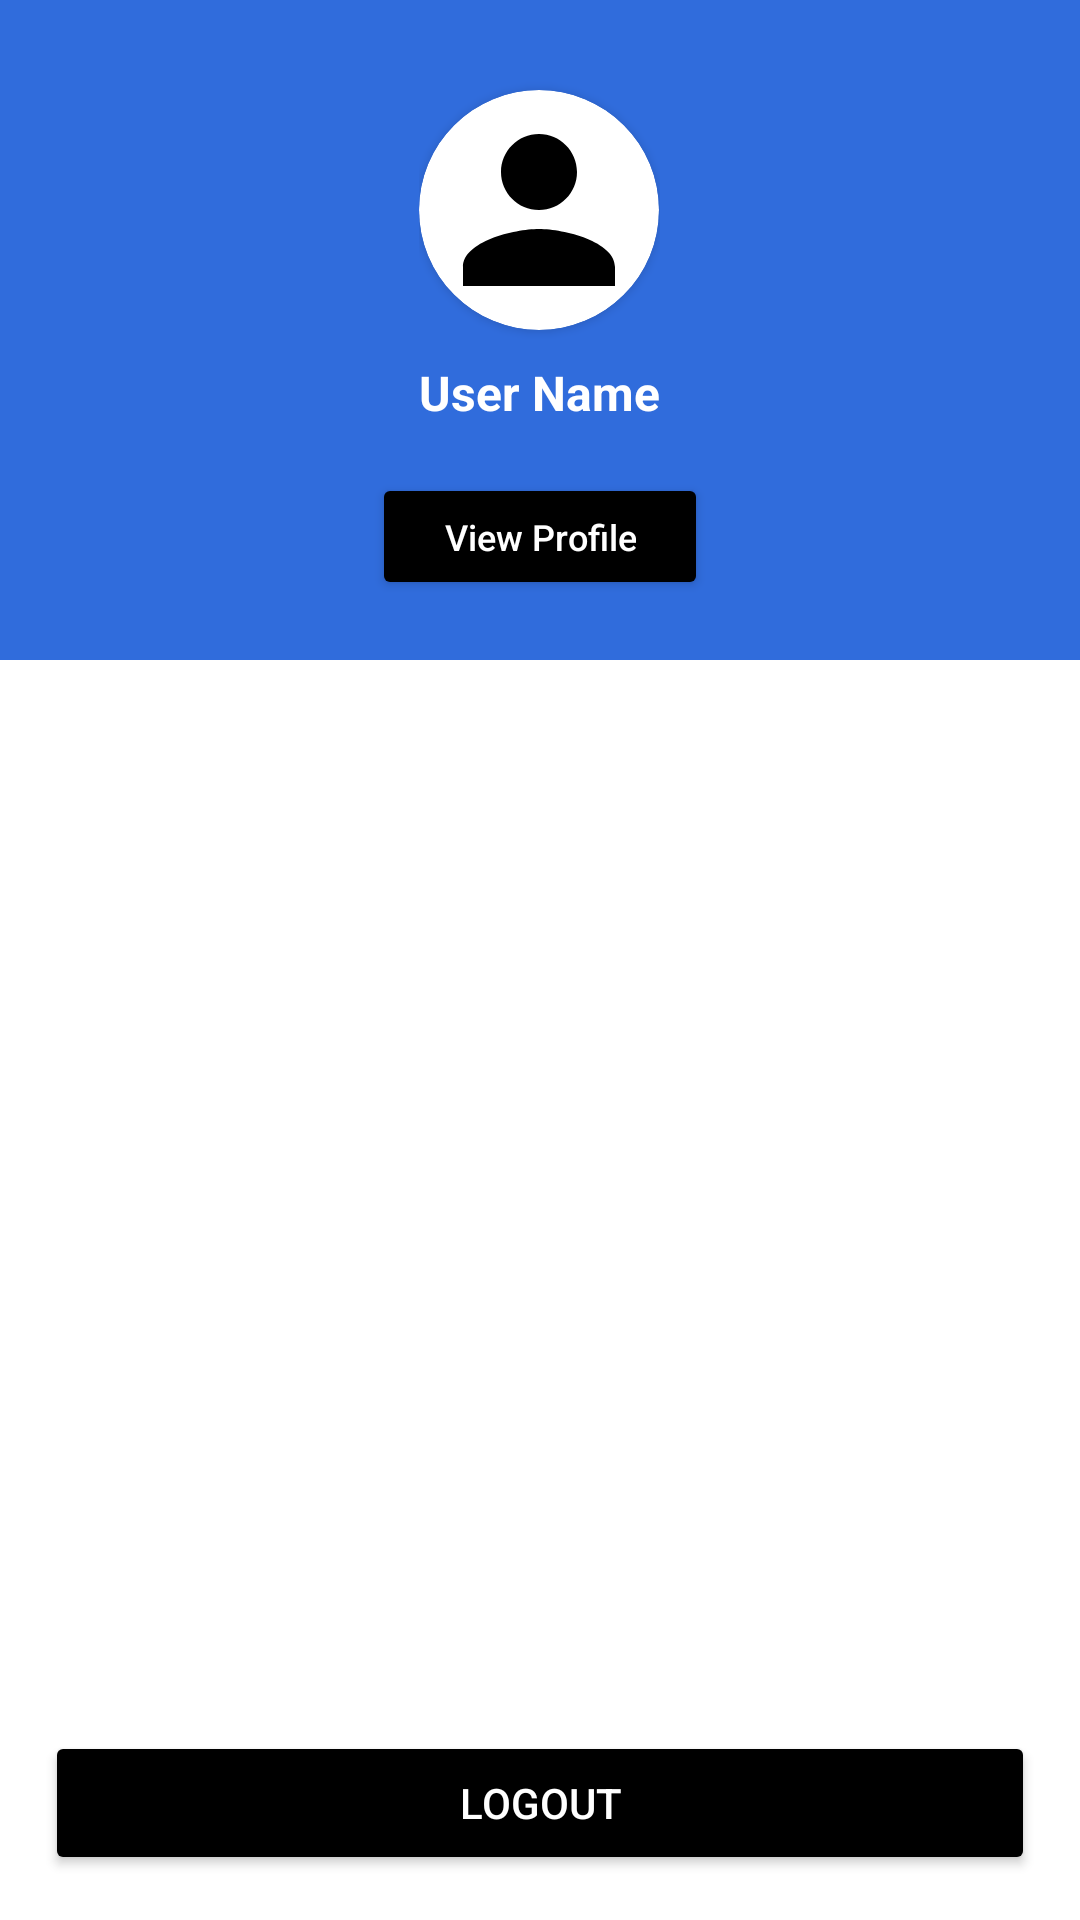

Where to tap for icons on this 1080*1920 app screen, as [x,y]:
person: [539,210]
